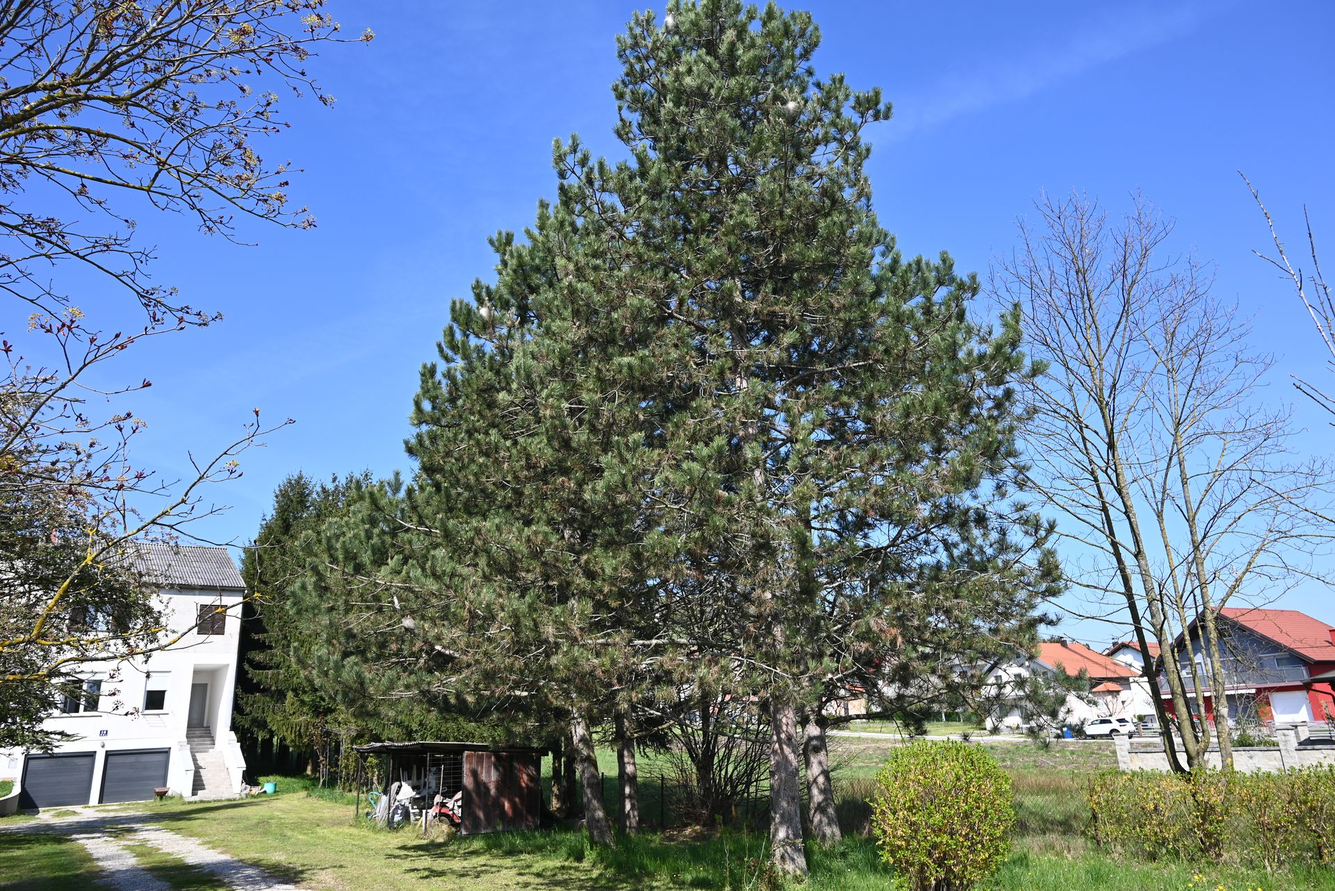thaumatopoea pityocampa jajno gnijezdo: (660, 15, 679, 34), (477, 306, 493, 323), (785, 99, 798, 116)
